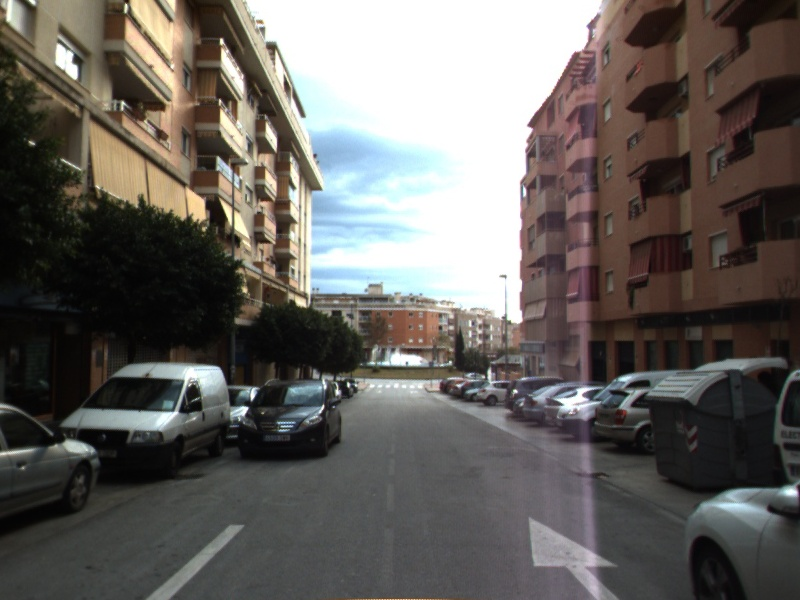STRAIGHT: (524, 514, 626, 600)
